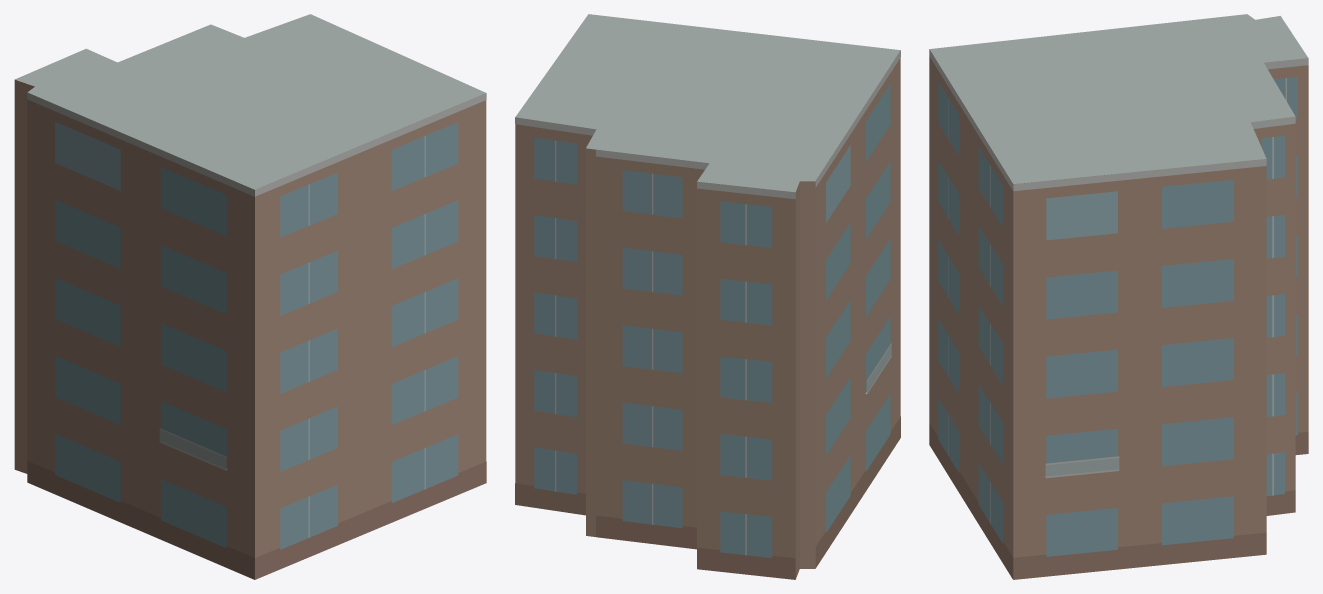
The model's file is survey-upis-32983057.glb.
3 views of the same model, side by side, from view 1: azimuth 30°, elevation 25°; view 2: azimuth 150°, elevation 25°; view 3: azimuth 270°, elevation 25° (orthographic). The views are drawn at different scales.
Parts seen in each view (by area): view 1: survey-upis-32983057.tmp; view 2: survey-upis-32983057.tmp; view 3: survey-upis-32983057.tmp.
Part boxes in pixels (box(x1,y1,x2,y2)): survey-upis-32983057.tmp: box(14, 14, 486, 579); survey-upis-32983057.tmp: box(515, 14, 900, 579); survey-upis-32983057.tmp: box(929, 14, 1308, 579).
Size of the model in its own units: 12.65 by 13.7 by 11.91.
